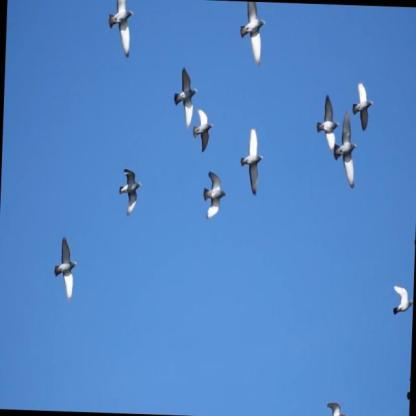bird: (331, 107, 359, 191), (51, 234, 80, 303), (237, 1, 267, 67), (239, 127, 265, 200), (171, 65, 199, 131), (104, 0, 135, 59), (315, 90, 342, 153), (202, 170, 228, 221), (118, 166, 143, 218), (351, 80, 375, 133), (191, 107, 215, 154), (391, 280, 414, 320), (324, 398, 349, 416)
